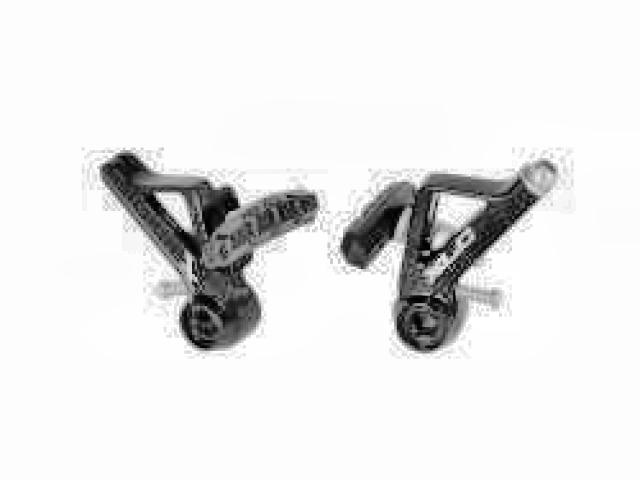rim_brake: (98, 146, 558, 354)
